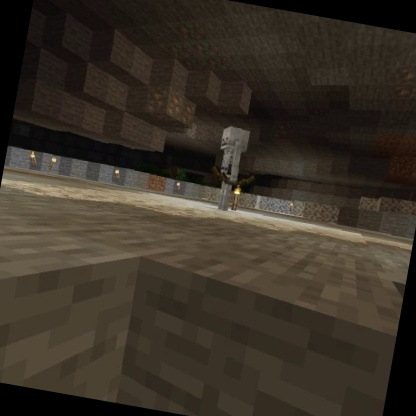skeleton: (200, 120, 268, 219)
